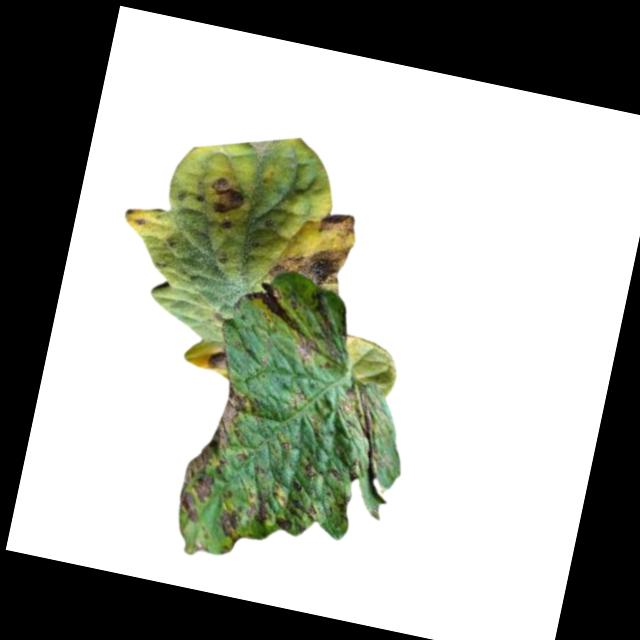Early_blight: (171, 376, 253, 530), (237, 280, 330, 366), (265, 231, 351, 295), (242, 478, 323, 535), (206, 174, 249, 220), (309, 208, 358, 240), (217, 508, 246, 543), (204, 349, 232, 376), (218, 218, 234, 233)
